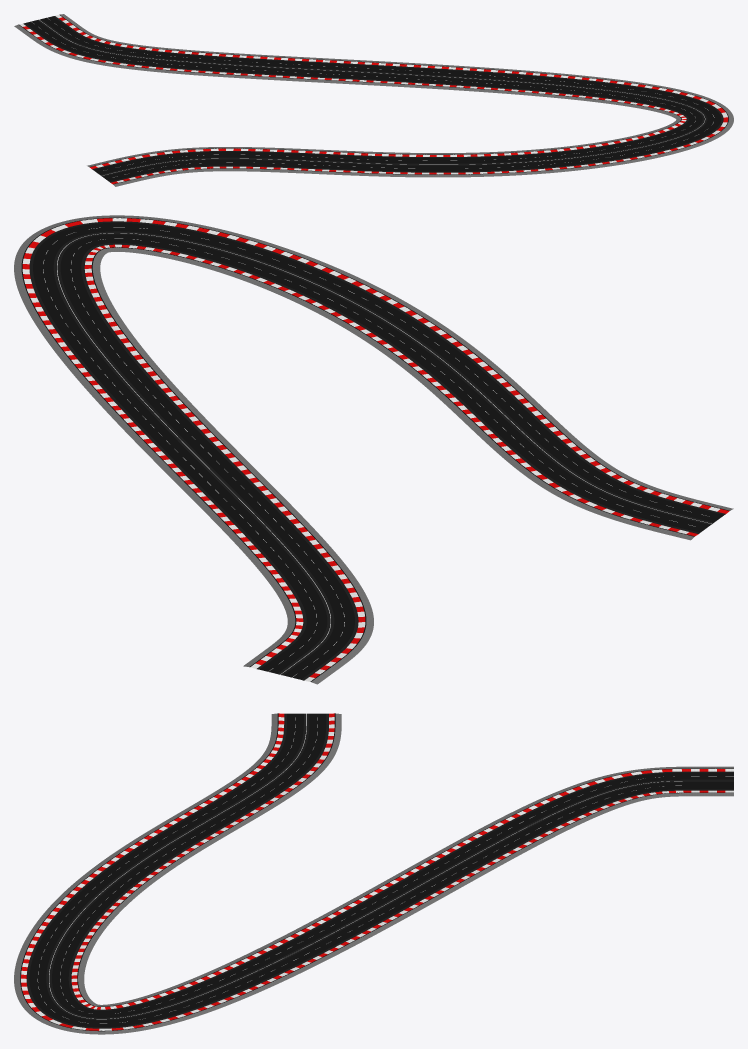
File: S0.1l3-mue.glb
3 renders of one model, top to bottom at view 1: azimuth 30°, elevation 25°; view 2: azimuth 150°, elevation 25°; view 3: azimuth 270°, elevation 25°, orthographic. The views are drawn at different scales.
Parts seen in each view (by area): view 1: Grid; view 2: Grid; view 3: Grid.
Part boxes in pixels (x1,y1,x2,y2): Grid: [14, 14, 733, 186]; Grid: [14, 215, 733, 684]; Grid: [14, 713, 733, 1034].
Size of the model in its own units: 270 by 0.31 by 256.
